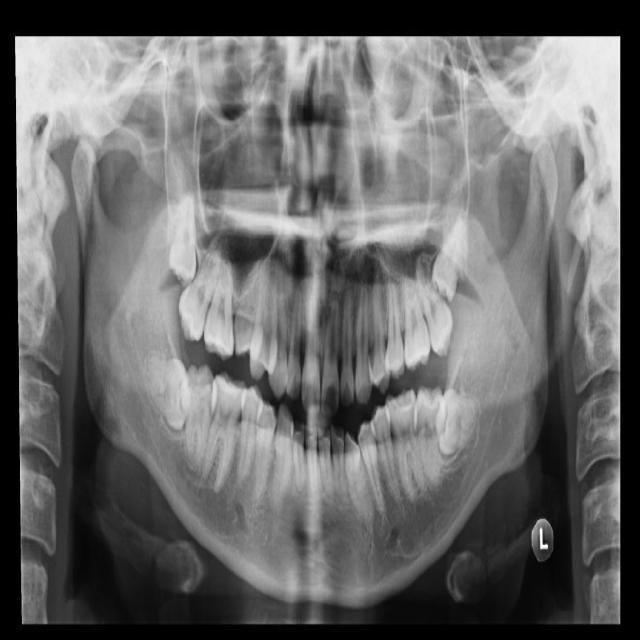3M ESPE Implant: (165, 193, 198, 288)
52: (394, 390, 415, 409)
73: (592, 582, 595, 586)
BioHorizons Implant: (409, 252, 463, 361)
BioLife Implant: (427, 213, 469, 304)
Biomet 3i Implant: (433, 388, 481, 456)
Blue Sky Bio Implant: (406, 384, 449, 487)
Caries: (170, 229, 228, 345)
Implant: (179, 364, 220, 468)
Keystone Dental Implant: (143, 352, 193, 433)
